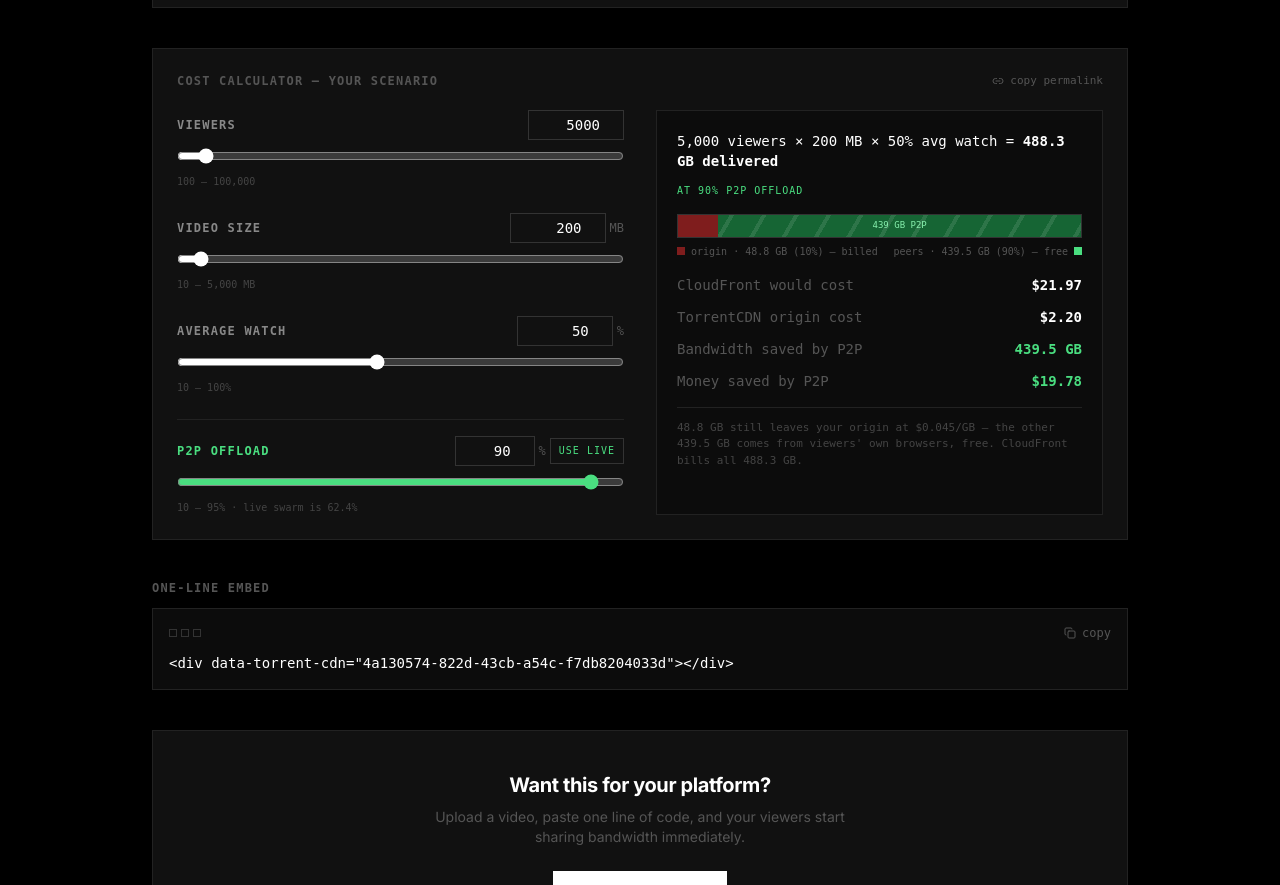
demo permalink restore + use-live recovery › 'use live' recovers from a pinned permalink p2p to the live rate and syncs the URL
(page scrolled)
Expected: the text "10 – 95% · live swarm is 62.4%" is shown, [177,502,358,512]
Expected: the text "at 90% P2P offload" is shown, [677,184,803,196]
# The recovery path: drop the pinned rate and go back to the live swarm.
Step 1. Click the button "use live" → click(587, 450), box [550,438,624,464]
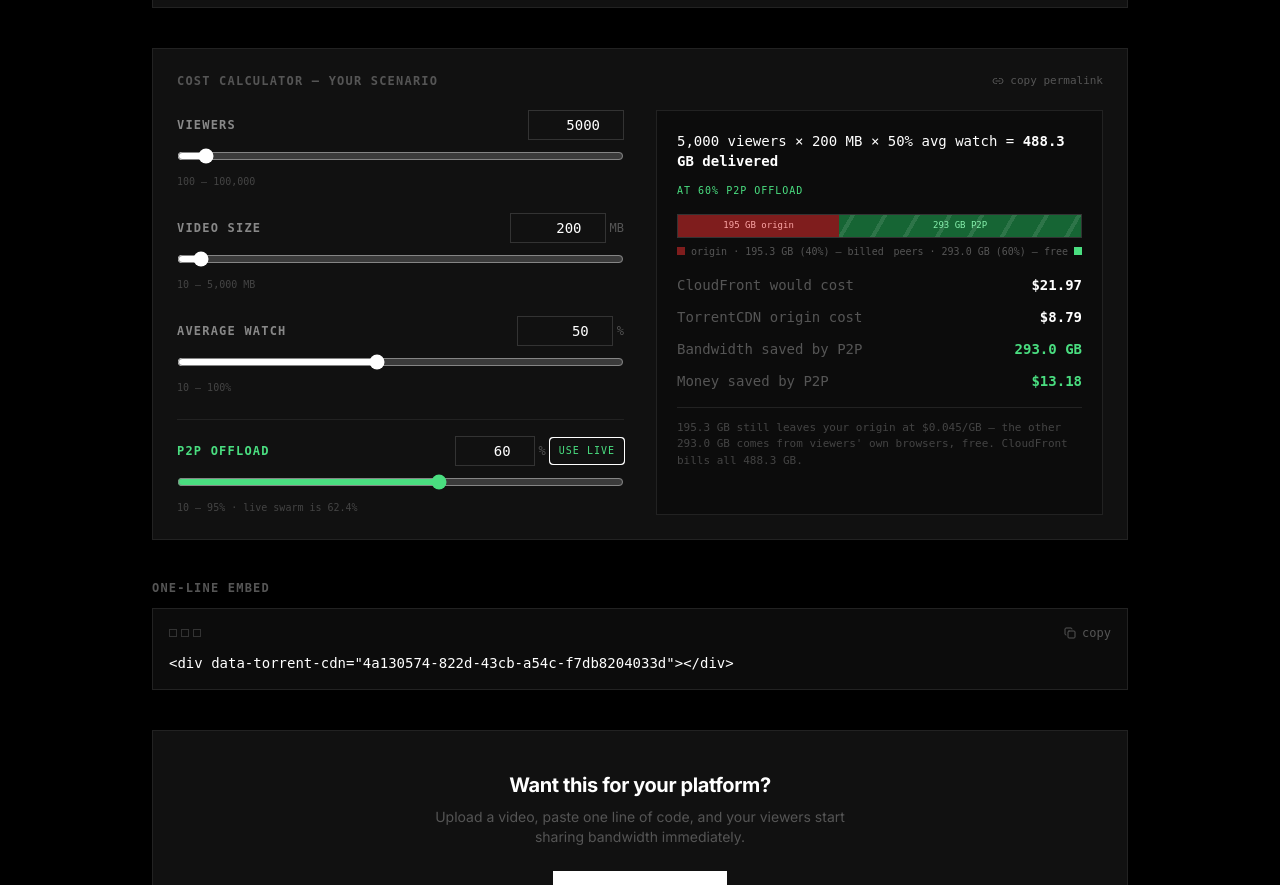
Now the text "at 60% P2P offload" is shown, box [677,184,803,196]
